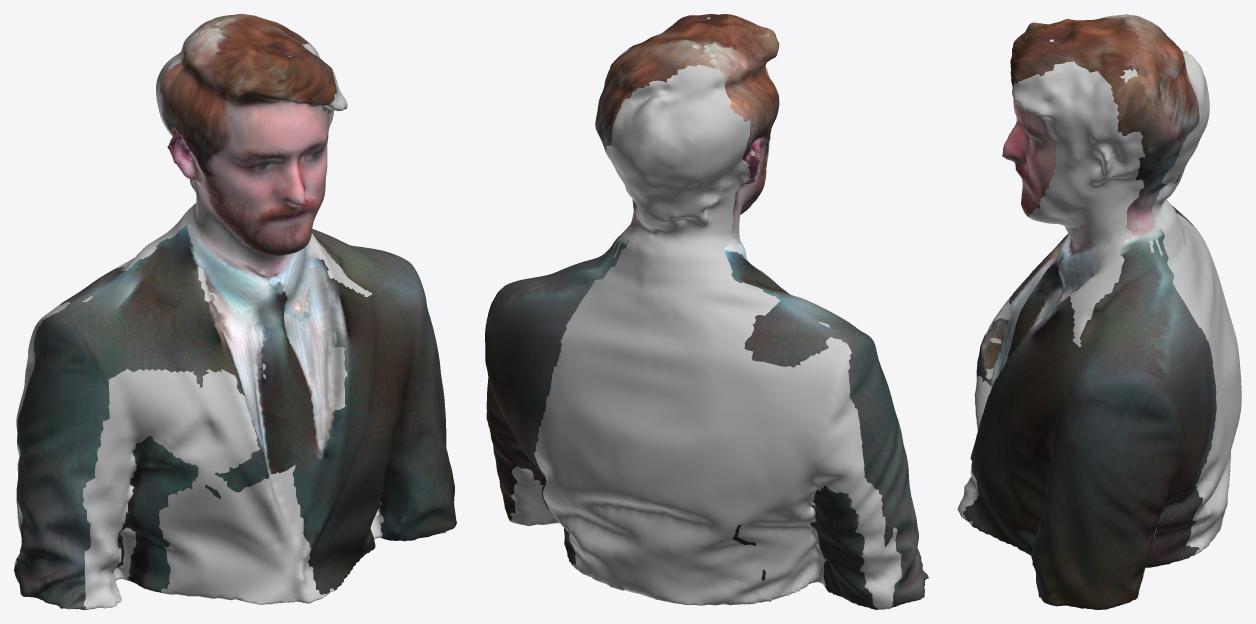
File: Preston.fbx
The picture shows the model from 3 angles, left to right: view 1: azimuth 30°, elevation 25°; view 2: azimuth 150°, elevation 25°; view 3: azimuth 270°, elevation 25°; orthographic projection. The views are drawn at different scales.
Parts seen in each view (by area): view 1: Preston; view 2: Preston; view 3: Preston.
Boxes of the visible parts, x1,y1,x2,y2 form: Preston: (14,14,456,609); Preston: (485,14,928,609); Preston: (957,14,1241,609).
Size of the model in its own units: 55287 by 65468 by 33875.
